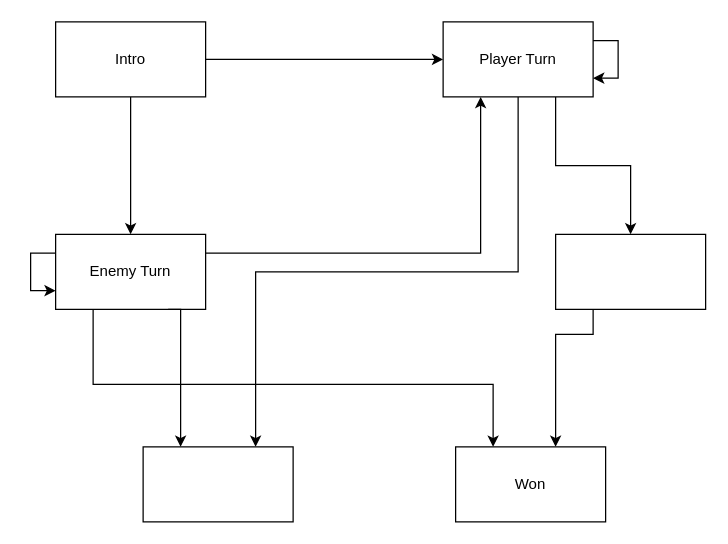
This 728x544 diagram has some shape labels left out. Each missing label, with the box of its shape:
Fleeing: (554, 233, 706, 309)
Lost: (142, 446, 293, 522)
